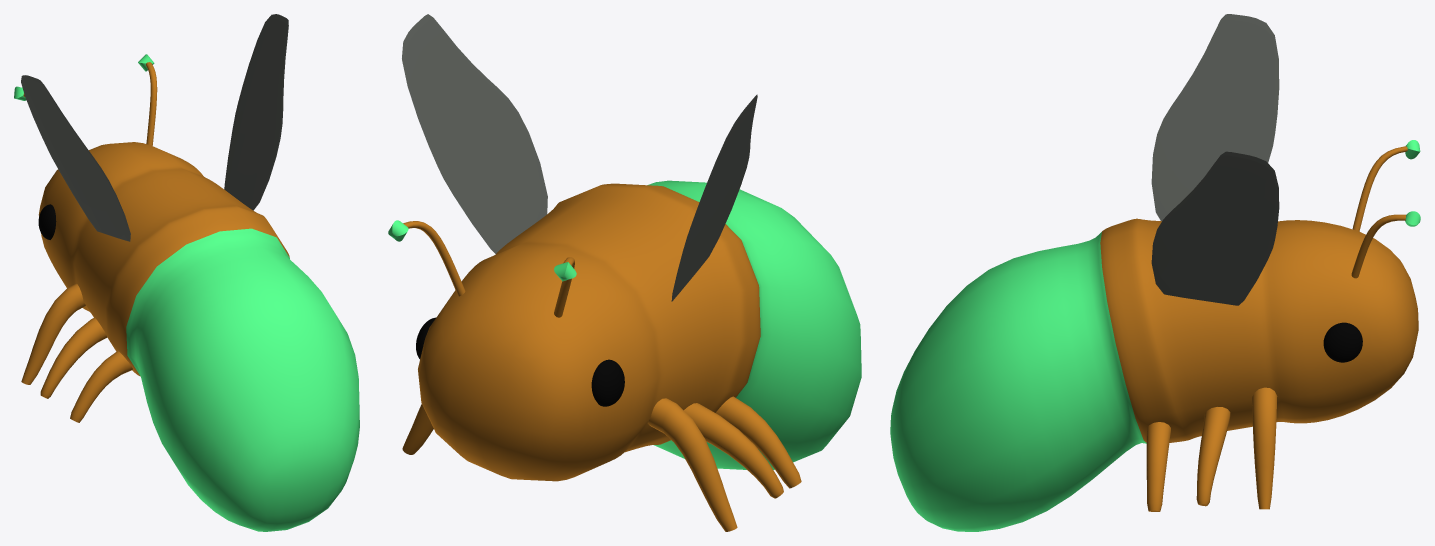
File: Low-Firefly (2).fbx
3 views of the same model, side by side, from view 1: azimuth 30°, elevation 25°; view 2: azimuth 150°, elevation 25°; view 3: azimuth 270°, elevation 25° (orthographic). The views are drawn at different scales.
Parts seen in each view (by area): view 1: FireFlyBody, FireFlyWings, FeetFireFlyFront, FeetFireFlyMiddle, FeetFireFlyBack, FireFlyAntenna, FireFlyEyeR; view 2: FireFlyBody, FireFlyWings, FeetFireFlyFront, FeetFireFlyMiddle, FeetFireFlyBack, FireFlyEyeR, FireFlyAntenna; view 3: FireFlyBody, FireFlyWings, FeetFireFlyFront, FeetFireFlyMiddle, FeetFireFlyBack, FireFlyEyeL, FireFlyAntenna.001, FireFlyAntenna.
Part boxes in pixels (x1=…): FireFlyBody: x1=38, y1=142, x2=359, y2=531; FireFlyWings: x1=21, y1=14, x2=288, y2=241; FeetFireFlyFront: x1=21, y1=283, x2=85, y2=384; FeetFireFlyMiddle: x1=40, y1=317, x2=107, y2=398; FeetFireFlyBack: x1=70, y1=351, x2=132, y2=422; FireFlyAntenna: x1=146, y1=62, x2=157, y2=145; FireFlyEyeR: x1=38, y1=204, x2=56, y2=239; FireFlyBody: x1=418, y1=180, x2=861, y2=481; FireFlyWings: x1=402, y1=14, x2=757, y2=301; FeetFireFlyFront: x1=402, y1=398, x2=737, y2=531; FeetFireFlyMiddle: x1=684, y1=403, x2=783, y2=498; FeetFireFlyBack: x1=716, y1=396, x2=801, y2=488; FireFlyEyeR: x1=591, y1=359, x2=624, y2=406; FireFlyAntenna: x1=403, y1=221, x2=465, y2=296; FireFlyBody: x1=890, y1=218, x2=1418, y2=531; FireFlyWings: x1=1151, y1=14, x2=1279, y2=305; FeetFireFlyFront: x1=1252, y1=387, x2=1277, y2=509; FeetFireFlyMiddle: x1=1196, y1=407, x2=1230, y2=506; FeetFireFlyBack: x1=1146, y1=422, x2=1170, y2=511; FireFlyEyeL: x1=1323, y1=322, x2=1362, y2=362; FireFlyAntenna.001: x1=1352, y1=146, x2=1407, y2=231; FireFlyAntenna: x1=1351, y1=214, x2=1405, y2=278.
Bounding box in the file's own units: 368 × 513 × 559.
